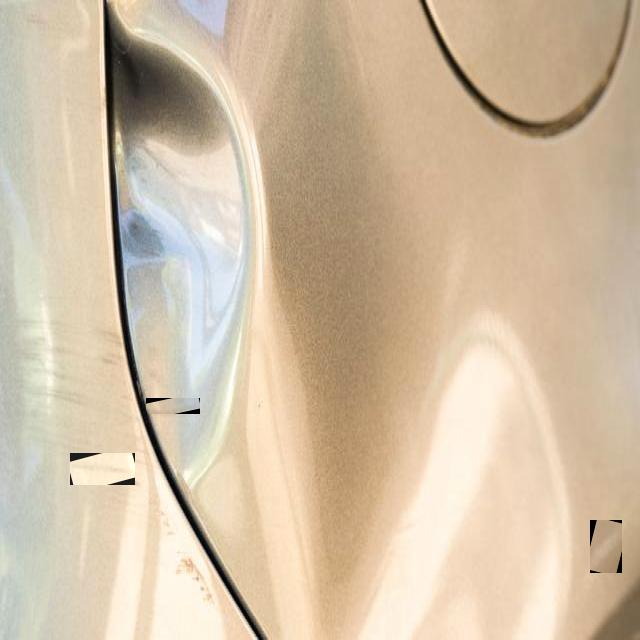Dent: (70, 453, 135, 485), (590, 520, 622, 573), (146, 398, 200, 414)
